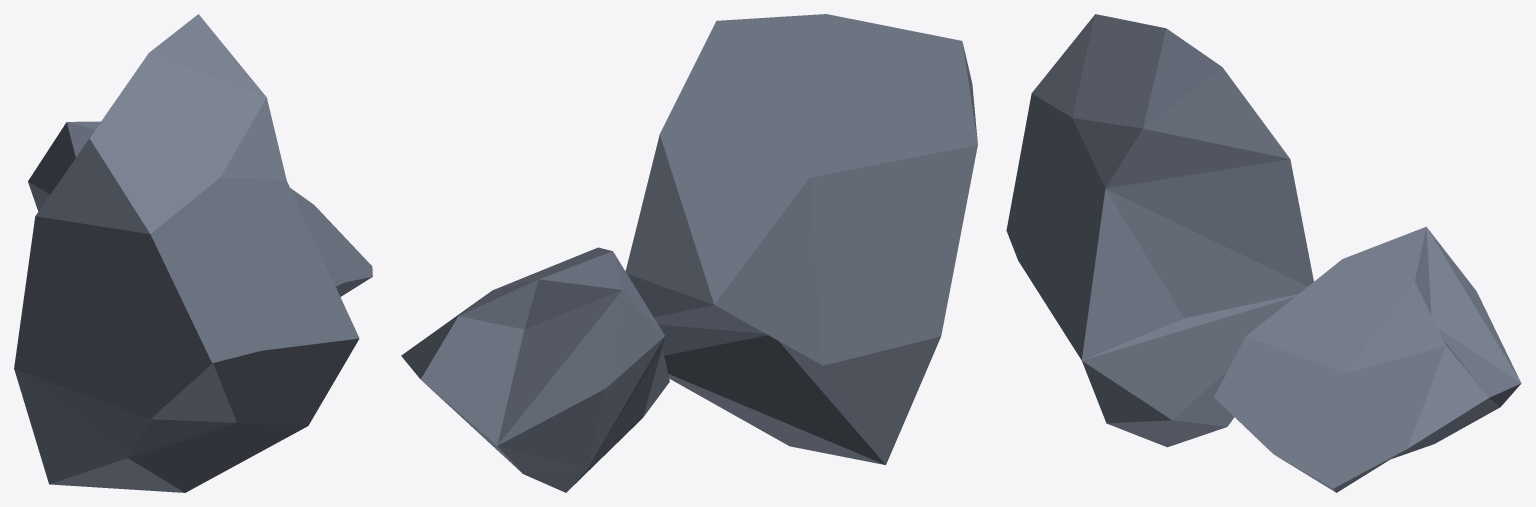
Rendered from Rock_1_Mesh.fbx.
3 views of the same model, side by side, from view 1: azimuth 30°, elevation 25°; view 2: azimuth 150°, elevation 25°; view 3: azimuth 270°, elevation 25° (orthographic). The views are drawn at different scales.
Parts seen in each view (by area): view 1: Rock_1_Mesh; view 2: Rock_1_Mesh; view 3: Rock_1_Mesh.
Boxes of the visible parts, left/top/right/bottom form: Rock_1_Mesh: left=14, top=14, right=372, bottom=492; Rock_1_Mesh: left=401, top=14, right=977, bottom=492; Rock_1_Mesh: left=1006, top=14, right=1521, bottom=492.
Size of the model in its own units: 421 by 401 by 465.
